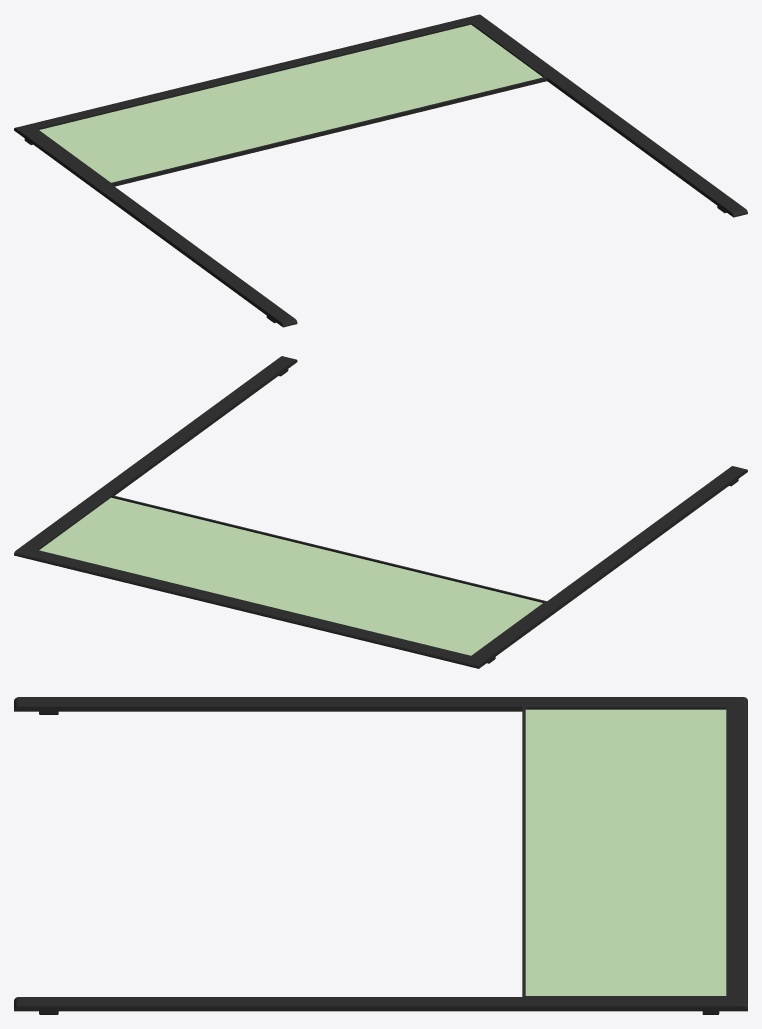
Rendered from qudrix-webgl_q1_roof_sunshade-dazzoni.glb.
3 renders of one model, top to bottom at view 1: azimuth 30°, elevation 25°; view 2: azimuth 150°, elevation 25°; view 3: azimuth 270°, elevation 25°, orthographic. The views are drawn at different scales.
Parts seen in each view (by area): view 1: roof_sunshade-dazzoni-shade, roof_sunshade-dazzoni-frame; view 2: roof_sunshade-dazzoni-shade, roof_sunshade-dazzoni-frame; view 3: roof_sunshade-dazzoni-shade, roof_sunshade-dazzoni-frame.
Boxes of the visible parts, <box> form: roof_sunshade-dazzoni-shade: <box>36,23,547,186</box>; roof_sunshade-dazzoni-frame: <box>14,14,747,327</box>; roof_sunshade-dazzoni-shade: <box>36,495,546,655</box>; roof_sunshade-dazzoni-frame: <box>14,356,747,668</box>; roof_sunshade-dazzoni-shade: <box>522,706,726,996</box>; roof_sunshade-dazzoni-frame: <box>14,697,747,1014</box>.
Bounding box in the file's own units: 2.79 × 0.0384 × 2.79.
